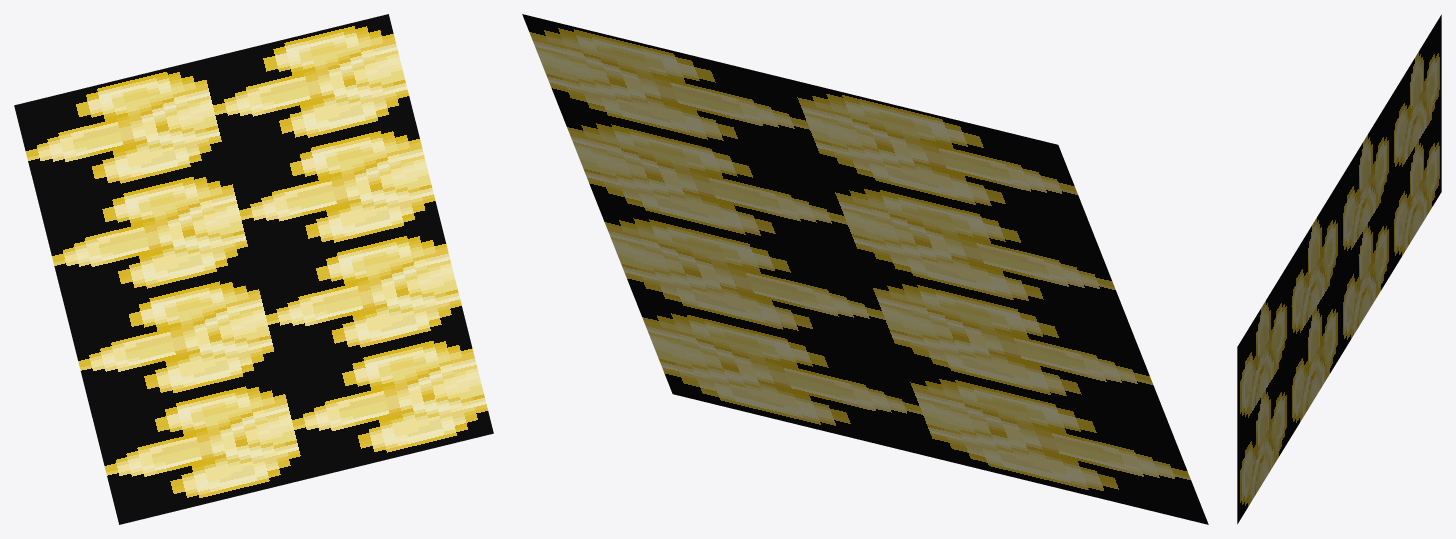
The model's file is 0100obj_kessyo02.gltf.
3 renders of one model, left to right at view 1: azimuth 30°, elevation 25°; view 2: azimuth 150°, elevation 25°; view 3: azimuth 270°, elevation 25°, orthographic. The views are drawn at different scales.
Visible parts, largest first — view 1: 0100obj_kessyo02; view 2: 0100obj_kessyo02; view 3: 0100obj_kessyo02.
Boxes of the visible parts, left/top/right/bottom form: 0100obj_kessyo02: left=14, top=14, right=493, bottom=524; 0100obj_kessyo02: left=522, top=14, right=1208, bottom=524; 0100obj_kessyo02: left=1237, top=14, right=1441, bottom=524.
Size of the model in its own units: 0.6968 by 0.6089 by 0.3389.
1 material, 1 textured.
